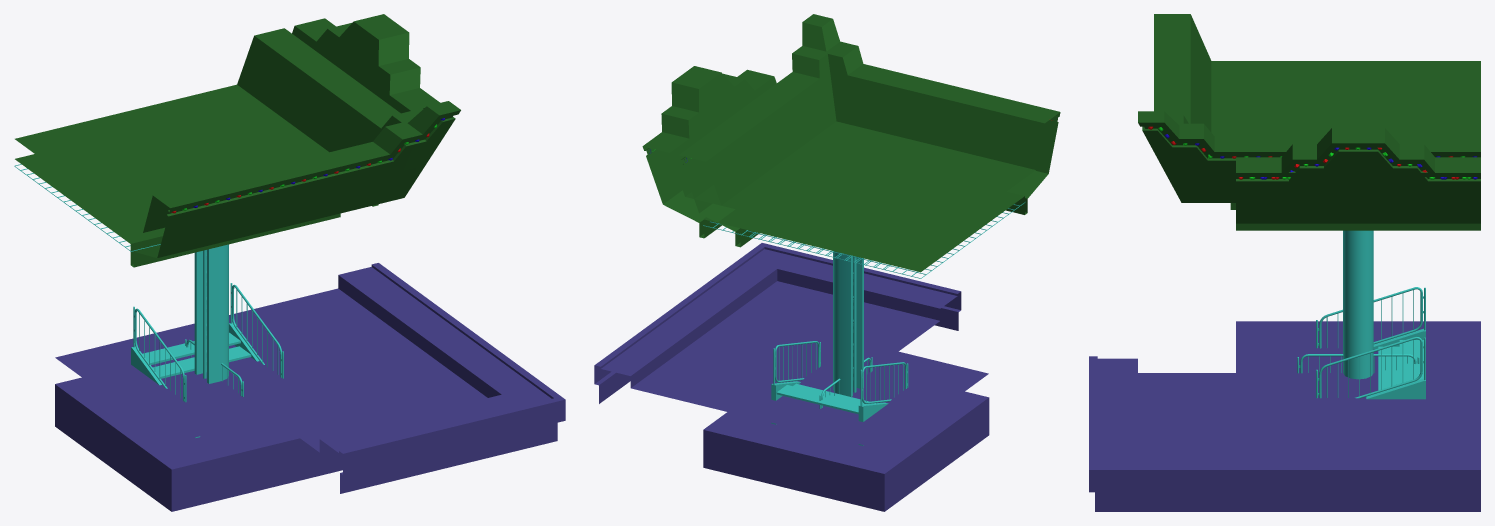
File: Bumper_Track.fbx
3 renders of one model, left to right at view 1: azimuth 30°, elevation 25°; view 2: azimuth 150°, elevation 25°; view 3: azimuth 270°, elevation 25°, orthographic. The views are drawn at different scales.
Parts seen in each view (by area): view 1: Roof_coner, Floor_edge_corner, Platform, Floor, Floor_edge, Roof_empty, Roof_simple, Roof_high, Column, Ladder; view 2: Roof_coner, Floor_edge_corner, Platform, Roof_high, Floor_edge, Floor, Roof_empty, Roof_simple, Column, Ladder; view 3: Roof_coner, Floor_edge_corner, Floor, Floor_edge, Roof_simple, Roof_high, Ladder, Column, Roof_empty, Border.
Boxes of the visible parts, x1,y1,x2,y2 form: Roof_coner: [14, 28, 460, 267]; Floor_edge_corner: [273, 305, 565, 493]; Platform: [55, 377, 342, 511]; Floor: [55, 308, 373, 442]; Floor_edge: [156, 263, 492, 418]; Roof_empty: [79, 84, 304, 228]; Roof_simple: [106, 18, 440, 228]; Roof_high: [112, 14, 438, 205]; Column: [194, 244, 228, 383]; Ladder: [131, 283, 283, 437]; Roof_coner: [679, 14, 1060, 278]; Floor_edge_corner: [647, 243, 961, 367]; Platform: [703, 391, 989, 511]; Roof_high: [644, 66, 986, 261]; Floor_edge: [594, 288, 897, 427]; Floor: [723, 333, 988, 450]; Roof_empty: [703, 132, 985, 269]; Roof_simple: [642, 70, 985, 262]; Column: [833, 251, 863, 396]; Ladder: [771, 341, 908, 445]; Roof_coner: [1138, 14, 1480, 209]; Floor_edge_corner: [1089, 356, 1358, 511]; Floor: [1236, 321, 1480, 424]; Floor_edge: [1236, 424, 1480, 511]; Roof_simple: [1236, 82, 1480, 230]; Roof_high: [1236, 85, 1480, 230]; Ladder: [1316, 287, 1425, 399]; Column: [1343, 230, 1373, 379]; Roof_empty: [1236, 83, 1480, 136]; Border: [1297, 354, 1419, 373].
Bounding box in the file's own units: 720 × 712 × 640.
